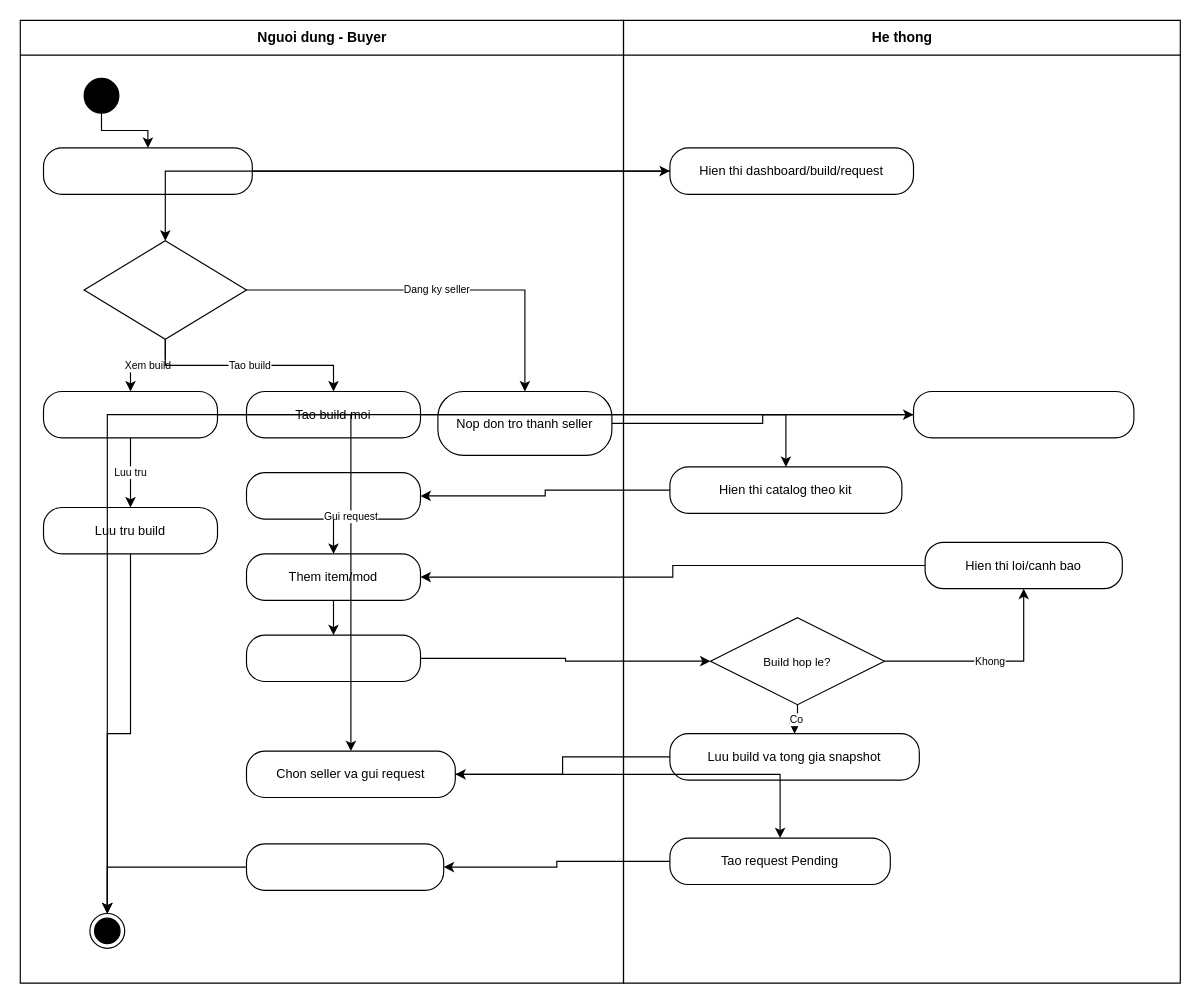
Image size: 1201x1003. Some labels were removed from this diagram. The box of each missing label's shape, as (x1, y1, x2, y2) in pixels:
Chon keyboard kit: (245, 472, 420, 519)
Chon luong: (83, 240, 246, 339)
Luu build: (245, 634, 420, 682)
Luu don seller Pending: (912, 390, 1134, 438)
Mo dashboard buyer: (42, 147, 252, 194)
Theo doi request: (245, 843, 444, 890)
Xem build da luu: (42, 390, 217, 438)
